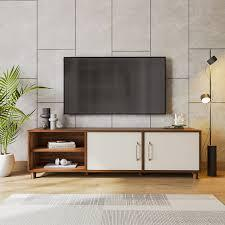TV: (24, 126, 203, 185), (60, 51, 168, 116)
light: (198, 53, 218, 110)
